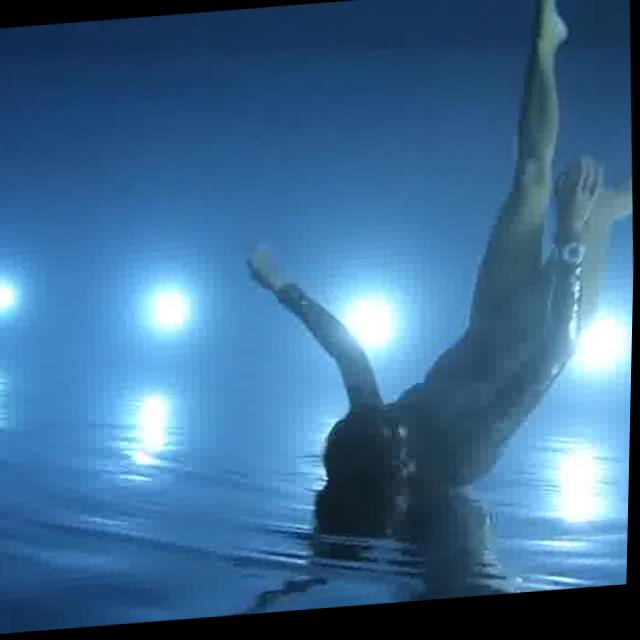human: (212, 0, 640, 545)
